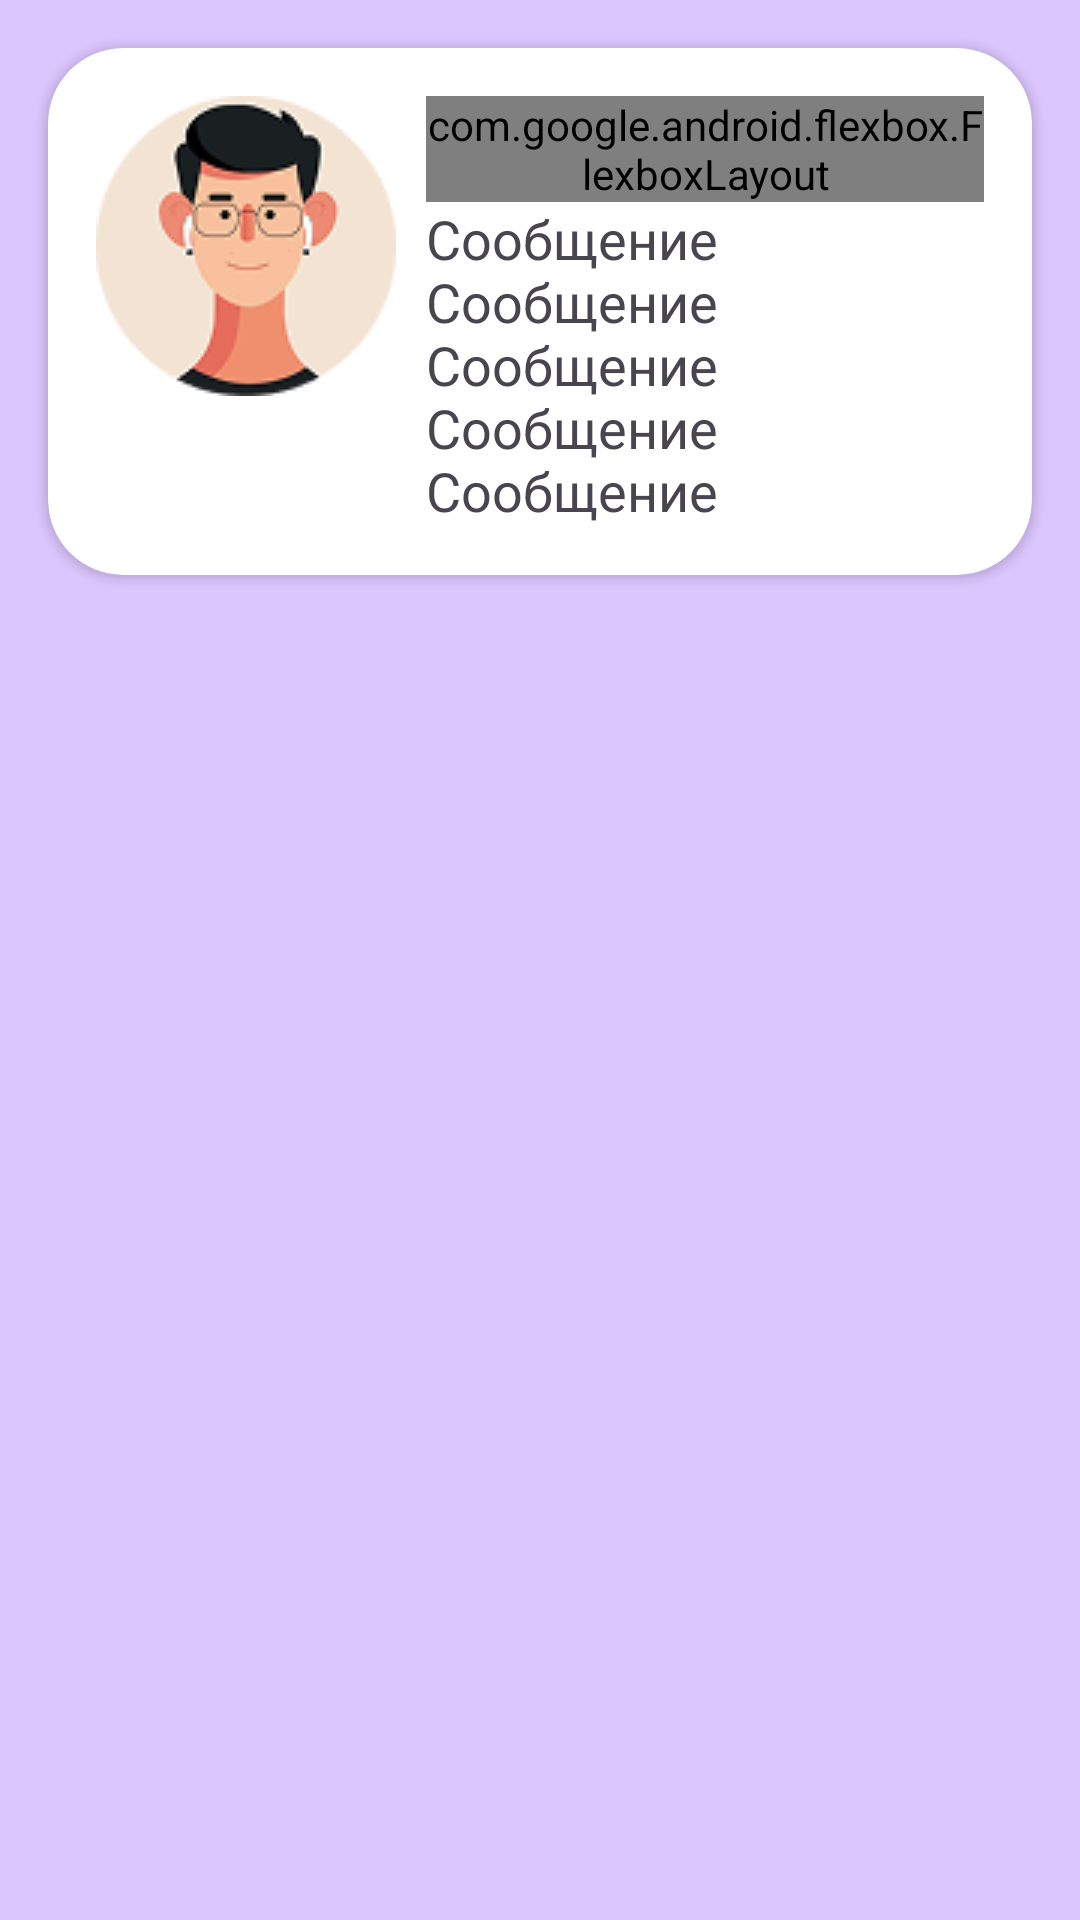

Icon click points for this 1080×1920 phone screenshot, format (x=x, y=y):
profile: (x=246, y=246)
